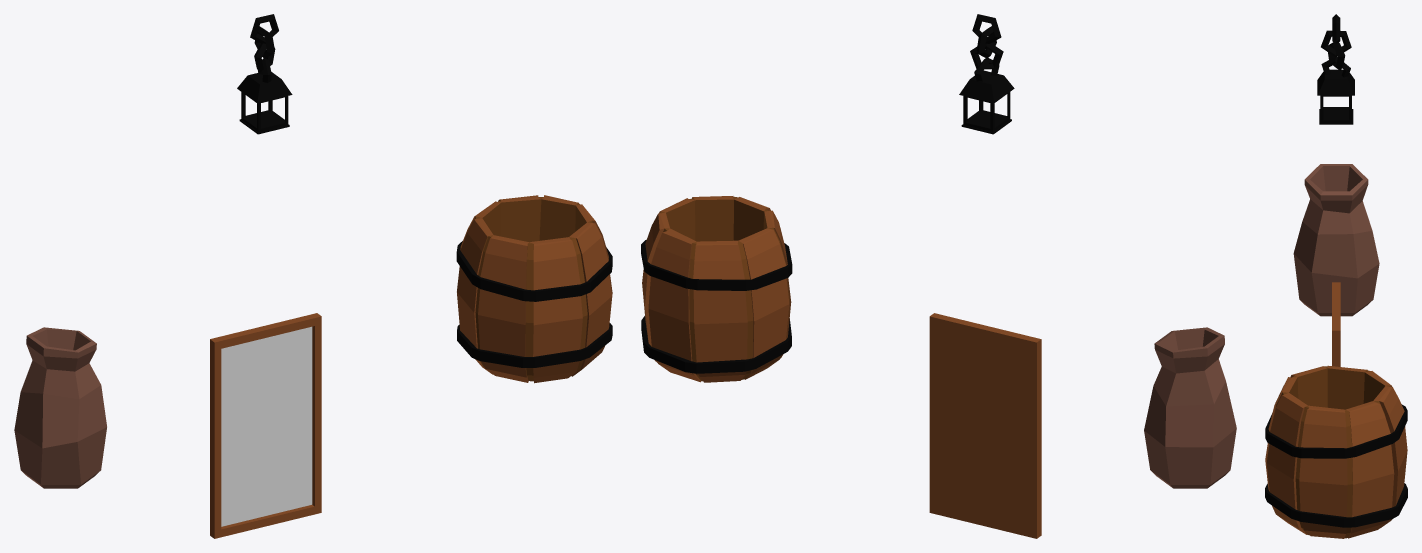
File: maze_acsessuars.fbx
3 renders of one model, left to right at view 1: azimuth 30°, elevation 25°; view 2: azimuth 150°, elevation 25°; view 3: azimuth 270°, elevation 25°, orthographic. The views are drawn at different scales.
Parts seen in each view (by area): view 1: barrel, picture, jug, lamp; view 2: barrel, picture, jug, lamp; view 3: barrel, jug, lamp, picture, lamp_chain_2, lamp_chain_3, lamp_chain_4, lamp_chain_1.
Boxes of the visible parts, bbox=[...] form: barrel: bbox=[456, 195, 612, 383]; picture: bbox=[210, 313, 321, 538]; jug: bbox=[14, 327, 106, 488]; lamp: bbox=[237, 72, 292, 134]; barrel: bbox=[641, 196, 792, 382]; picture: bbox=[929, 313, 1041, 538]; jug: bbox=[1144, 327, 1236, 488]; lamp: bbox=[959, 70, 1014, 134]; barrel: bbox=[1265, 365, 1407, 538]; jug: bbox=[1293, 164, 1379, 316]; lamp: bbox=[1317, 69, 1354, 124]; picture: bbox=[1332, 282, 1340, 366]; lamp_chain_2: bbox=[1321, 30, 1351, 56]; lamp_chain_3: bbox=[1328, 42, 1345, 70]; lamp_chain_4: bbox=[1321, 57, 1350, 77]; lamp_chain_1: bbox=[1332, 14, 1340, 43].
Size of the model in its own units: 429 by 362 by 100.
